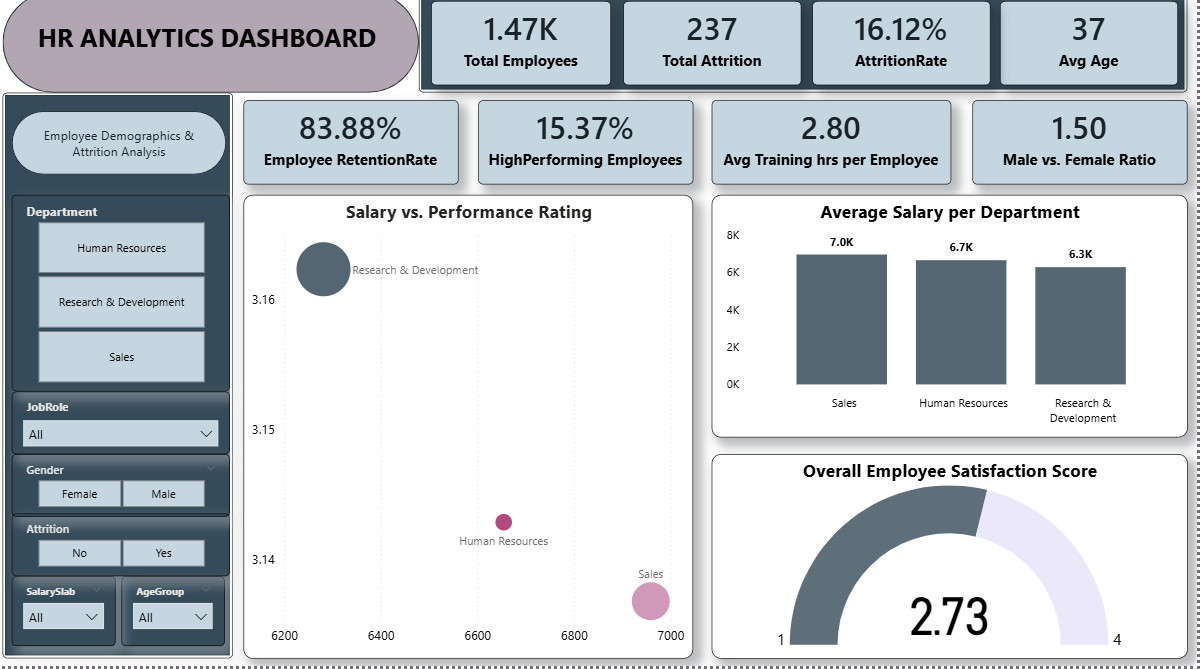

What the dashboard file says about the page in this screenshot:
{"tool":"powerbi","page":{"name":"Performance & Salary Analysis ","canvas":[1280,720],"ordinal":1},"visuals":[{"type":"shape","box":[4.9,0,444.5,107.5],"z":0},{"type":"shape","box":[4.9,107.5,245.8,604],"z":1000},{"type":"shape","box":[449.3,1.6,820.5,105.8],"z":2000},{"type":"cardVisual","fields":{"Data":["Count(HR_Analytics.EmpID)"]},"box":[462.4,9.8,192.1,89.5],"z":3000},{"type":"cardVisual","fields":{"Data":["HR_Analytics.Avg Age (Rounded)"]},"box":[1069.6,9.8,190.5,89.5],"z":4000},{"type":"cardVisual","fields":{"Data":["HR_Analytics.Male vs. Female Ratio"]},"box":[1040.3,115.6,229.6,89.5],"z":5000},{"type":"cardVisual","fields":{"Data":["Sum(HR_Analytics.AttritionCount)"]},"box":[667.5,9.8,190.5,89.5],"z":6000},{"type":"cardVisual","fields":{"Data":["HR_Analytics.AttritionRate"]},"box":[869.4,9.8,190.5,89.5],"z":7000},{"type":"slicer","fields":{"Values":["HR_Analytics.Department"]},"box":[14.7,216.5,232.8,210],"z":8000},{"type":"slicer","fields":{"Values":["HR_Analytics.JobRole"]},"box":[14.7,426.5,232.8,66.7],"z":9000},{"type":"slicer","fields":{"Values":["HR_Analytics.SalarySlab"]},"box":[14.7,623.5,110.7,74.9],"z":10000},{"type":"slicer","fields":{"Values":["HR_Analytics.AgeGroup"]},"box":[131.9,623.5,110,75],"z":11000},{"type":"cardVisual","fields":{"Data":["HR_Analytics.Employee Retention Rate %"]},"box":[262.1,115.6,229.5,89.5],"z":12000},{"type":"cardVisual","fields":{"Data":["HR_Analytics.High Performing Employees %"]},"box":[512.8,115.6,229.6,89.5],"z":13000},{"type":"cardVisual","fields":{"Data":["HR_Analytics.Avg Training Hours per Employee"]},"box":[761.9,115.6,255.6,89.5],"z":14000},{"type":"slicer","fields":{"Values":["HR_Analytics.Attrition"]},"box":[14.7,556.8,232.8,66.7],"z":15000},{"type":"pageNavigator","box":[14.7,127,229.6,68.4],"z":16000},{"type":"textbox","box":[37.4,24.4,428.2,99.3],"z":17000},{"type":"slicer","fields":{"Values":["HR_Analytics.Gender"]},"box":[14.7,493.3,232.8,66.7],"z":18000},{"type":"scatterChart","title":"Salary vs. Performance Rating ","fields":{"X":["Avg(HR_Analytics.MonthlyIncome)"],"Y":["Avg(HR_Analytics.PerformanceRating)"],"Category":["HR_Analytics.Department"],"Size":["CountNonNull(HR_Analytics.JobRole)"]},"box":[262.1,216.5,480.3,494.9],"z":19000},{"type":"clusteredColumnChart","title":"Average Salary per Department ","fields":{"Category":["HR_Analytics.Department"],"Y":["Avg(HR_Analytics.MonthlyIncome)"]},"box":[761.9,216.5,507.9,258.9],"z":20000},{"type":"gauge","title":"Overall Employee Satisfaction Score ","fields":{"Y":["Avg(HR_Analytics.JobSatisfaction)"],"MinValue":["HR_Analytics.Gauge Min"],"MaxValue":["HR_Analytics.Gauge Max"]},"box":[761.9,493.3,507.9,218.2],"z":21000}]}

Visuals, with their boxes in screenshot pixels (x1, y1, x2, y2), scaled from the page's 1280x720 canvas onto the 1200x669 screenshot:
shape: bbox=(5, 0, 421, 100)
shape: bbox=(5, 100, 235, 661)
shape: bbox=(421, 1, 1190, 100)
cardVisual - Count(HR_Analytics.EmpID): bbox=(434, 9, 614, 92)
cardVisual - HR_Analytics.Avg Age (Rounded): bbox=(1003, 9, 1181, 92)
cardVisual - HR_Analytics.Male vs. Female Ratio: bbox=(975, 107, 1191, 191)
cardVisual - Sum(HR_Analytics.AttritionCount): bbox=(626, 9, 804, 92)
cardVisual - HR_Analytics.AttritionRate: bbox=(815, 9, 994, 92)
slicer - HR_Analytics.Department: bbox=(14, 201, 232, 396)
slicer - HR_Analytics.JobRole: bbox=(14, 396, 232, 458)
slicer - HR_Analytics.SalarySlab: bbox=(14, 579, 118, 649)
slicer - HR_Analytics.AgeGroup: bbox=(124, 579, 227, 649)
cardVisual - HR_Analytics.Employee Retention Rate %: bbox=(246, 107, 461, 191)
cardVisual - HR_Analytics.High Performing Employees %: bbox=(481, 107, 696, 191)
cardVisual - HR_Analytics.Avg Training Hours per Employee: bbox=(714, 107, 954, 191)
slicer - HR_Analytics.Attrition: bbox=(14, 517, 232, 579)
pageNavigator: bbox=(14, 118, 229, 182)
textbox: bbox=(35, 23, 436, 115)
slicer - HR_Analytics.Gender: bbox=(14, 458, 232, 520)
"Salary vs. Performance Rating " scatterChart: bbox=(246, 201, 696, 661)
"Average Salary per Department " clusteredColumnChart: bbox=(714, 201, 1190, 442)
"Overall Employee Satisfaction Score " gauge: bbox=(714, 458, 1190, 661)
